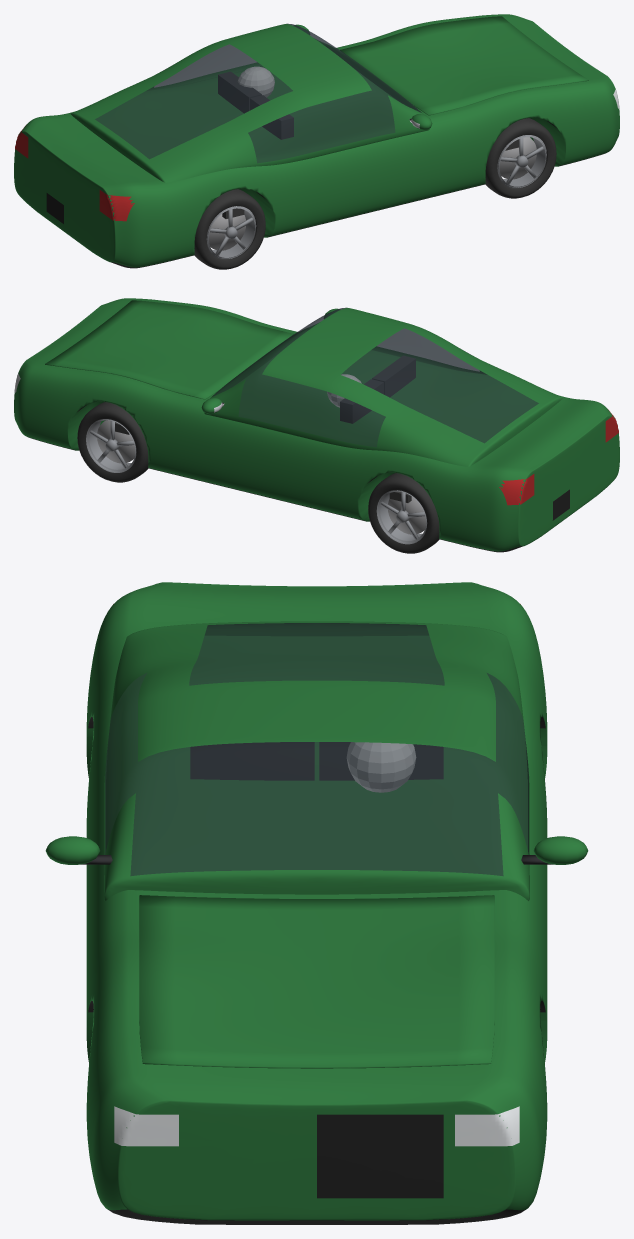
File: derby_pelham_stallion.glb
The picture shows the model from 3 angles, top to bottom: view 1: azimuth 30°, elevation 25°; view 2: azimuth 150°, elevation 25°; view 3: azimuth 270°, elevation 25°; orthographic projection. The views are drawn at different scales.
Visible parts, largest first — view 1: body, cabin, bonnet, bumper_rear, wheel_fr_spin, wheel_rr_spin, bumper_front, interior; view 2: body, cabin, bonnet, bumper_rear, wheel_fl_spin, wheel_rl_spin, bumper_front, interior; view 3: cabin, body, bumper_front, bonnet, interior, bumper_rear, mirror_l, mirror_r.
Part boxes in pixels (x1=…): body: x1=39, y1=14, x2=599, y2=267; cabin: x1=70, y1=23, x2=429, y2=182; bonnet: x1=340, y1=16, x2=588, y2=115; bumper_rear: x1=14, y1=117, x2=143, y2=268; wheel_fr_spin: x1=485, y1=118, x2=556, y2=198; wheel_rr_spin: x1=194, y1=189, x2=265, y2=269; bumper_front: x1=496, y1=14, x2=619, y2=156; interior: x1=218, y1=66, x2=293, y2=139; body: x1=34, y1=298, x2=594, y2=551; cabin: x1=204, y1=307, x2=563, y2=466; bonnet: x1=45, y1=300, x2=293, y2=399; bumper_rear: x1=490, y1=401, x2=619, y2=552; wheel_fl_spin: x1=77, y1=402, x2=148, y2=482; wheel_rl_spin: x1=368, y1=473, x2=439, y2=553; bumper_front: x1=14, y1=298, x2=137, y2=440; interior: x1=327, y1=355, x2=415, y2=423; cabin: x1=104, y1=621, x2=529, y2=900; body: x1=86, y1=597, x2=547, y2=1173; bumper_front: x1=90, y1=1060, x2=543, y2=1224; bonnet: x1=139, y1=895, x2=494, y2=1068; interior: x1=190, y1=742, x2=443, y2=792; bumper_rear: x1=101, y1=582, x2=532, y2=625; mirror_l: x1=521, y1=836, x2=588, y2=864; mirror_r: x1=45, y1=836, x2=112, y2=864.
Bounding box in the file's own units: 4.71 × 1.3 × 2.18.
